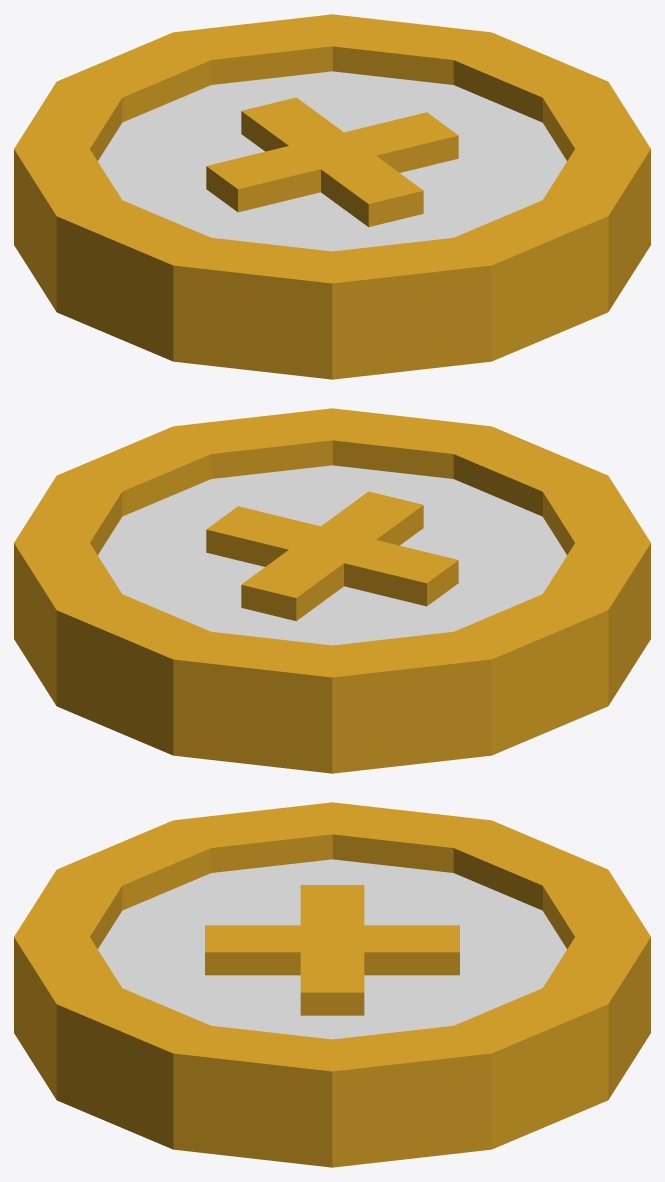
The model's file is Coin.fbx.
3 renders of one model, top to bottom at view 1: azimuth 30°, elevation 25°; view 2: azimuth 150°, elevation 25°; view 3: azimuth 270°, elevation 25°, orthographic.
Parts seen in each view (by area): view 1: Cylinder.001, Cylinder, Cube.001; view 2: Cylinder.001, Cylinder, Cube.001; view 3: Cylinder.001, Cylinder, Cube.001.
Part boxes in pixels (bbox=[...]): Cylinder.001: bbox=[14, 14, 650, 379]; Cylinder: bbox=[98, 71, 566, 251]; Cube.001: bbox=[206, 97, 458, 227]; Cylinder.001: bbox=[14, 408, 650, 773]; Cylinder: bbox=[98, 465, 566, 645]; Cube.001: bbox=[206, 491, 458, 621]; Cylinder.001: bbox=[14, 802, 650, 1167]; Cylinder: bbox=[98, 859, 566, 1039]; Cube.001: bbox=[205, 885, 459, 1015].
Size of the model in its own units: 250 by 41.62 by 250.
